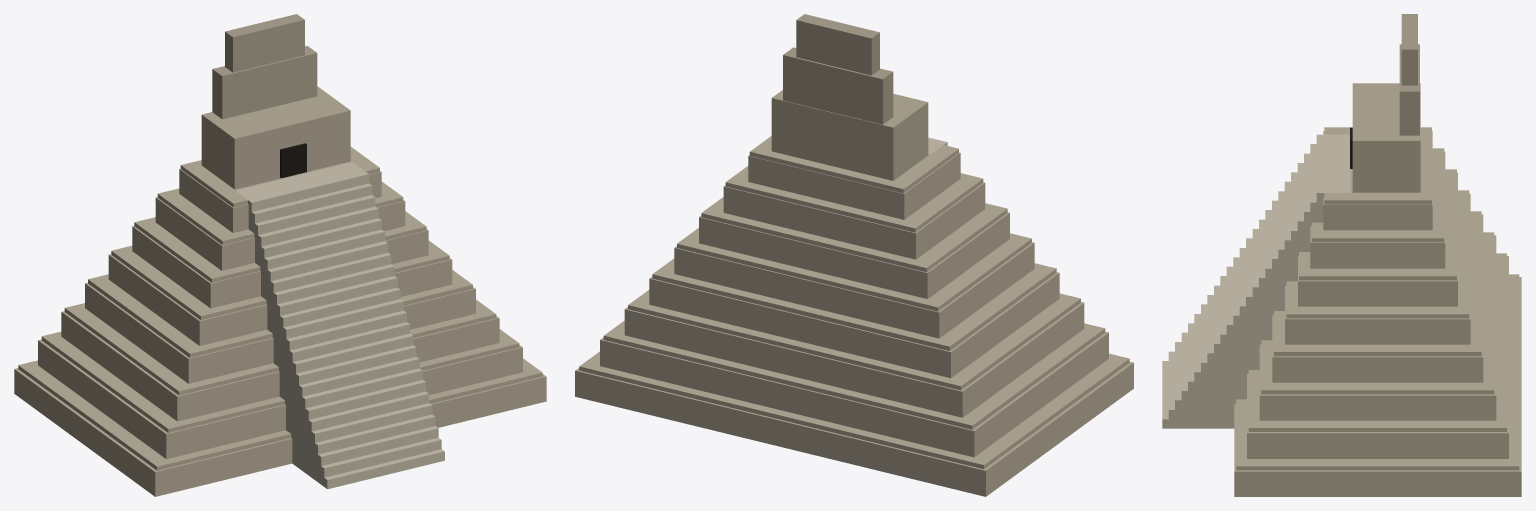
File: meso-palenque-inscriptions-ruin.glb
3 renders of one model, left to right at view 1: azimuth 30°, elevation 25°; view 2: azimuth 150°, elevation 25°; view 3: azimuth 270°, elevation 25°, orthographic. The views are drawn at different scales.
Parts seen in each view (by area): view 1: meso-body, meso-stair, meso-shrine, meso-comb, meso-door; view 2: meso-body, meso-shrine, meso-comb; view 3: meso-body, meso-stair, meso-shrine, meso-comb.
Boxes of the visible parts, x1,y1,x2,y2 form: meso-body: [14, 147, 546, 496]; meso-stair: [235, 162, 444, 489]; meso-shrine: [201, 86, 350, 189]; meso-comb: [212, 14, 317, 119]; meso-door: [280, 143, 306, 178]; meso-body: [575, 136, 1133, 496]; meso-shrine: [771, 90, 928, 180]; meso-comb: [783, 14, 893, 124]; meso-body: [1234, 127, 1521, 496]; meso-stair: [1162, 134, 1350, 428]; meso-shrine: [1352, 83, 1420, 192]; meso-comb: [1399, 14, 1419, 135].
Bounding box in the file's own units: 40.4 × 35.57 × 31.5.
